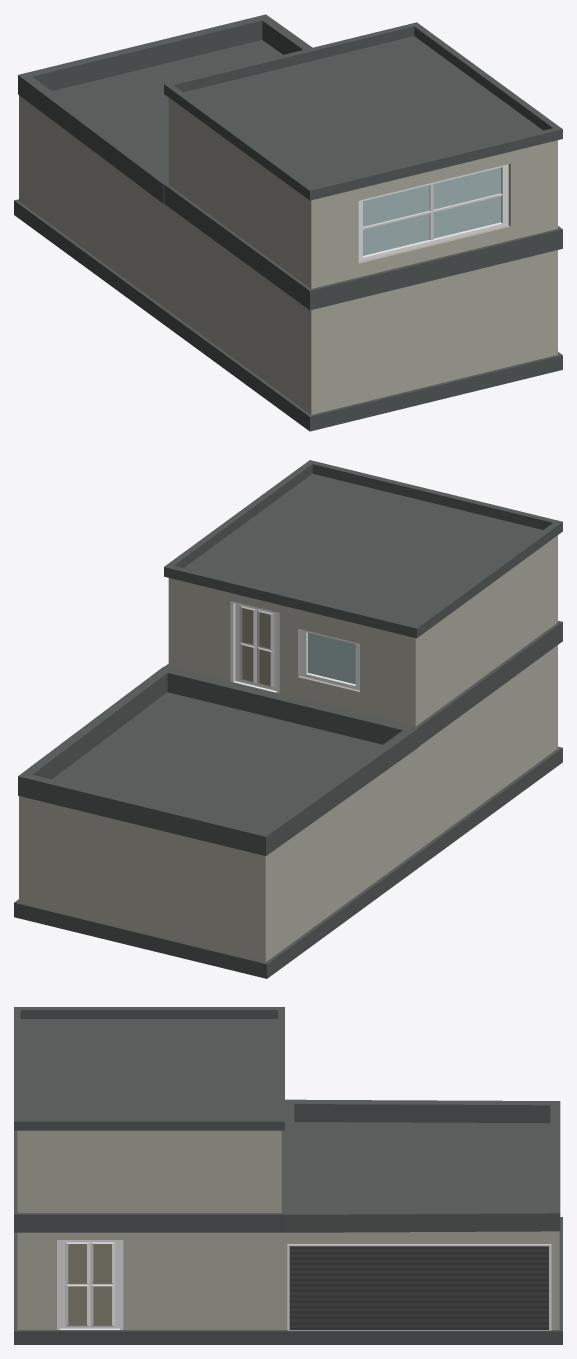
Rendered from building5.fbx.
3 views of the same model, one above another, from view 1: azimuth 30°, elevation 25°; view 2: azimuth 150°, elevation 25°; view 3: azimuth 270°, elevation 25° (orthographic). The views are drawn at different scales.
Visible parts, largest first — view 1: building_007; view 2: building_007; view 3: building_007.
Part boxes in pixels (x1,y1,x2,y2): building_007: (14, 14, 562, 431); building_007: (14, 460, 562, 978); building_007: (14, 1007, 562, 1344).
Bounding box in the file's own units: 8.24 × 7.45 × 16.61.
